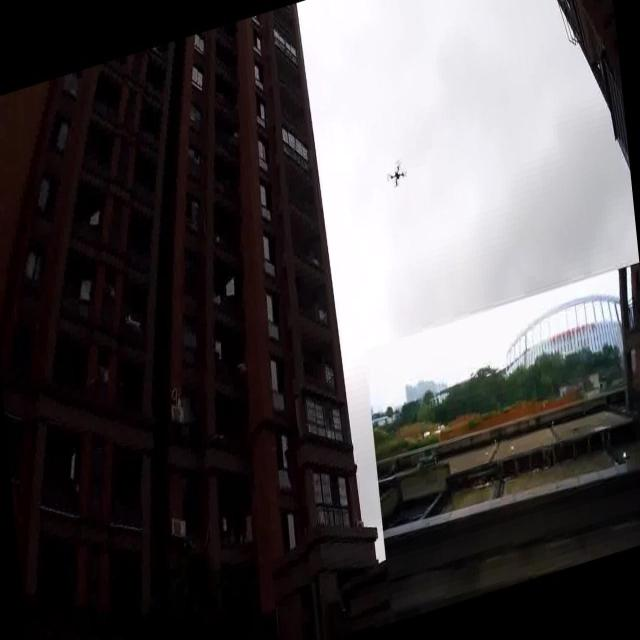drone: (380, 152, 405, 194)
